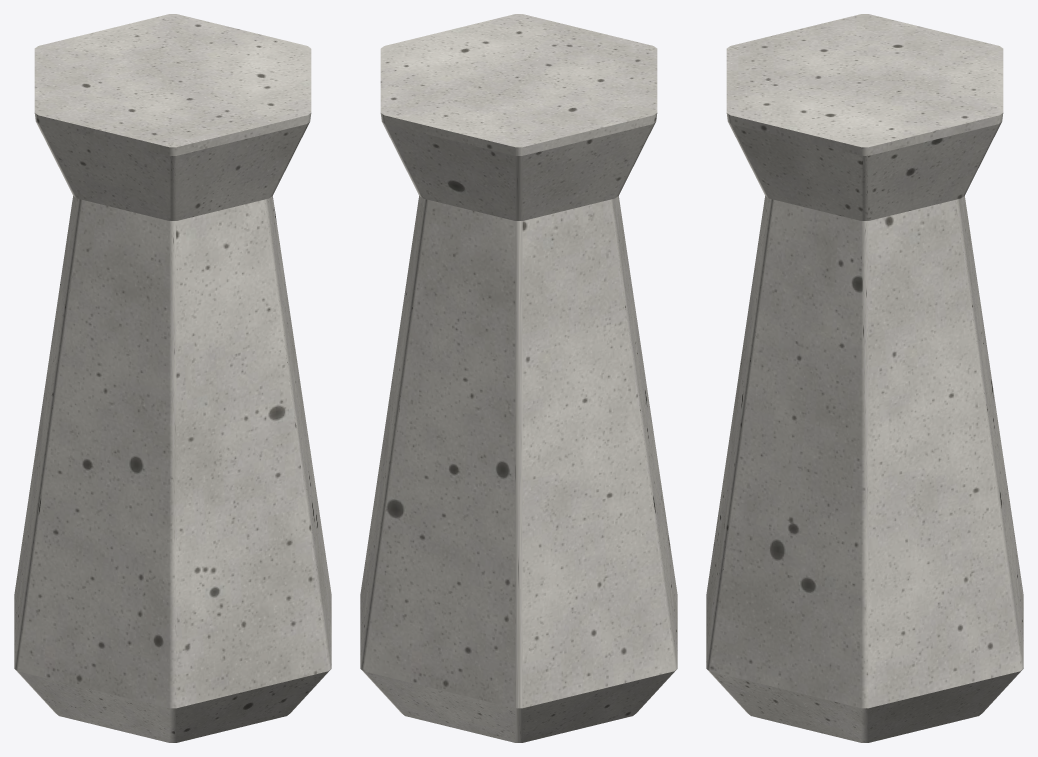
The model's file is rook-white.glb.
3 renders of one model, left to right at view 1: azimuth 30°, elevation 25°; view 2: azimuth 150°, elevation 25°; view 3: azimuth 270°, elevation 25°, orthographic.
Visible parts, largest first — view 1: HEXALITH_white_rook; view 2: HEXALITH_white_rook; view 3: HEXALITH_white_rook.
Part boxes in pixels (bbox=[...]): HEXALITH_white_rook: bbox=[14, 14, 331, 742]; HEXALITH_white_rook: bbox=[360, 14, 677, 742]; HEXALITH_white_rook: bbox=[706, 14, 1023, 742].
Bounding box in the file's own units: 0.5418 × 1 × 0.4745.
1 material, 1 textured.
